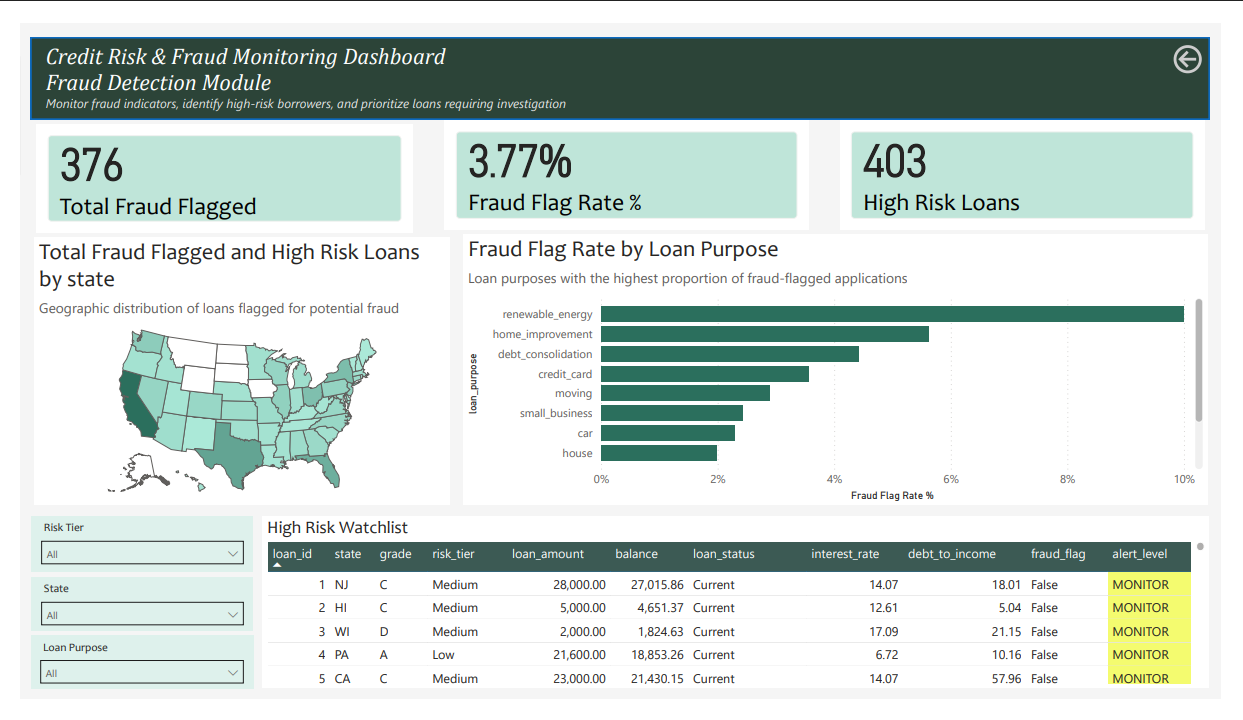

What the dashboard file says about the page in this screenshot:
{"tool":"powerbi","page":{"name":"Fraud Detection Module","canvas":[1280,720],"ordinal":3},"visuals":[{"type":"shape","box":[11,15.1,1255.6,86.4],"z":0},{"type":"textbox","box":[21.8,15.5,1243.6,86.4],"z":1000},{"type":"cardVisual","fields":{"Data":["_Measures.Total Fraud Flagged"]},"box":[11.7,101.7,411.7,126.7],"z":2000},{"type":"cardVisual","fields":{"Data":["_Measures.Fraud Flag Rate %"]},"box":[446.7,98.3,398.3,126.7],"z":3000},{"type":"shapeMap","fields":{"Category":["public dim_borrower.state"],"Value":["_Measures.Total Fraud Flagged"]},"box":[15,228.3,443.3,285],"z":4000},{"type":"cardVisual","fields":{"Data":["_Measures.High Risk Loans"]},"box":[868.3,98.3,398.3,126.7],"z":5000},{"type":"barChart","title":"Fraud Flag Rate by Loan Purpose","fields":{"Category":["public fact_loans.loan_purpose"],"Y":["_Measures.Fraud Flag Rate %"]},"box":[471.7,225,793.3,288.3],"z":6000},{"type":"tableEx","title":"High Risk Watchlist","fields":{"Values":["public fact_loans.loan_id","public dim_borrower.state","public dim_grade.grade","public dim_grade.risk_tier","public fact_loans.loan_amount","public fact_loans.balance","public fact_loans.loan_status","public fact_loans.interest_rate","public fact_loans.debt_to_income","public fact_loans.fraud_flag","public fact_loans.alert_level"]},"box":[258.3,525,1008.3,183.3],"z":7000},{"type":"slicer","fields":{"Values":["public dim_grade.risk_tier"]},"box":[11.8,525.5,236.4,58.2],"z":8000},{"type":"slicer","fields":{"Values":["public dim_borrower.state"]},"box":[11.8,590,236.4,57.3],"z":9000},{"type":"slicer","fields":{"Values":["public fact_loans.loan_purpose"]},"box":[10.9,651.8,237.3,57.3],"z":10000},{"type":"actionButton","box":[1224,18,42,40],"z":10001}]}

Visuals, with their boxes in screenshot pixels (x1, y1, x2, y2), scaled from the page's 1280x720 canvas onto the 1243x720 screenshot:
shape: crop(11, 15, 1230, 102)
textbox: crop(21, 16, 1229, 102)
cardVisual - _Measures.Total Fraud Flagged: crop(11, 102, 411, 228)
cardVisual - _Measures.Fraud Flag Rate %: crop(434, 98, 821, 225)
shapeMap - public dim_borrower.state x _Measures.Total Fraud Flagged: crop(15, 228, 445, 513)
cardVisual - _Measures.High Risk Loans: crop(843, 98, 1230, 225)
"Fraud Flag Rate by Loan Purpose" barChart: crop(458, 225, 1228, 513)
"High Risk Watchlist" tableEx: crop(251, 525, 1230, 708)
slicer - public dim_grade.risk_tier: crop(11, 526, 241, 584)
slicer - public dim_borrower.state: crop(11, 590, 241, 647)
slicer - public fact_loans.loan_purpose: crop(11, 652, 241, 709)
actionButton: crop(1189, 18, 1229, 58)
